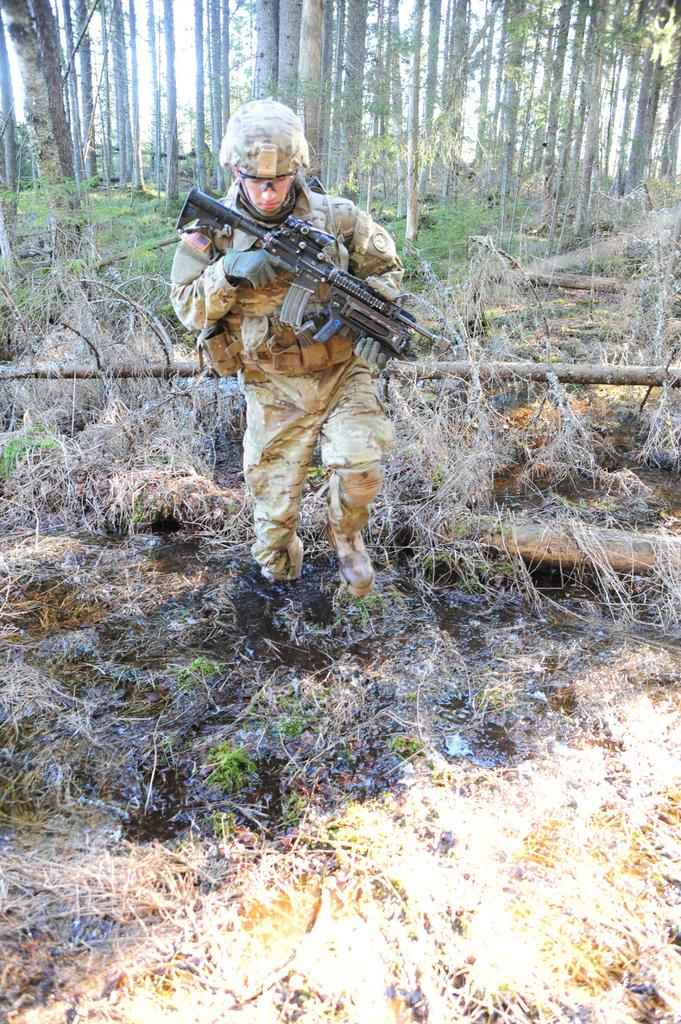Rifle: (177, 189, 448, 364)
